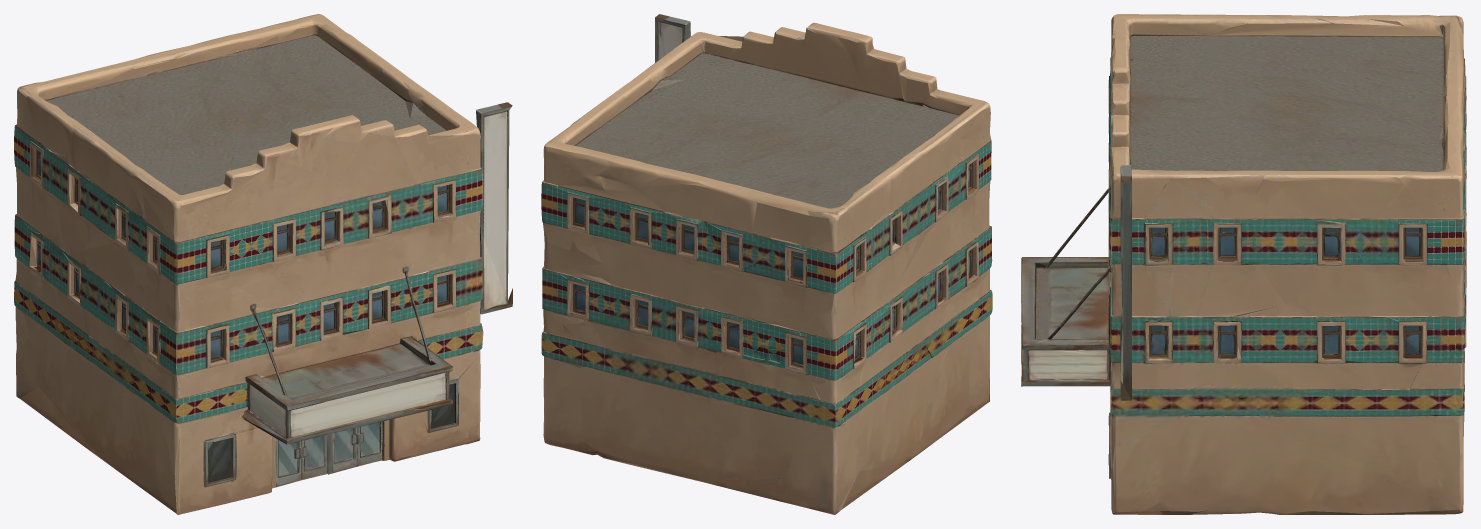
Rendered from kimo.glb.
3 renders of one model, left to right at view 1: azimuth 30°, elevation 25°; view 2: azimuth 150°, elevation 25°; view 3: azimuth 270°, elevation 25°, orthographic. The views are drawn at different scales.
Parts seen in each view (by area): view 1: placed; view 2: placed; view 3: placed.
Part boxes in pixels (x1,y1,x2,y2): placed: (14, 14, 512, 514); placed: (541, 14, 992, 514); placed: (1021, 14, 1466, 514).
Size of the model in its own units: 19.38 by 18.96 by 20.
1 material, 1 textured.
